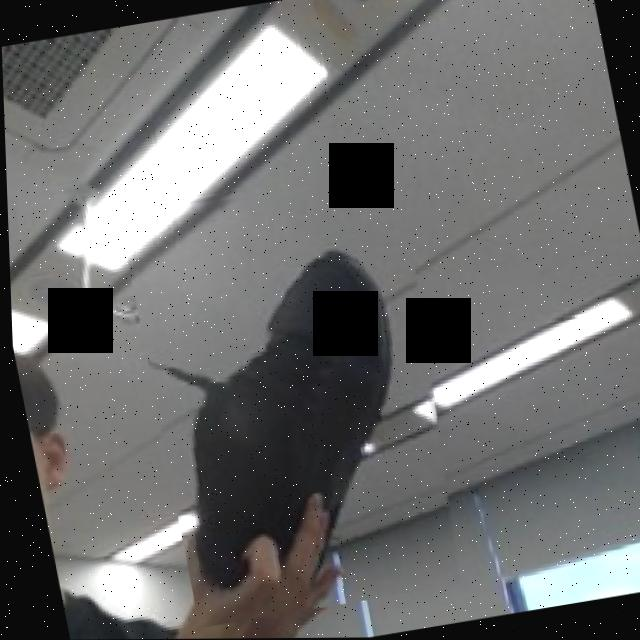shoe: (116, 166, 478, 628)
